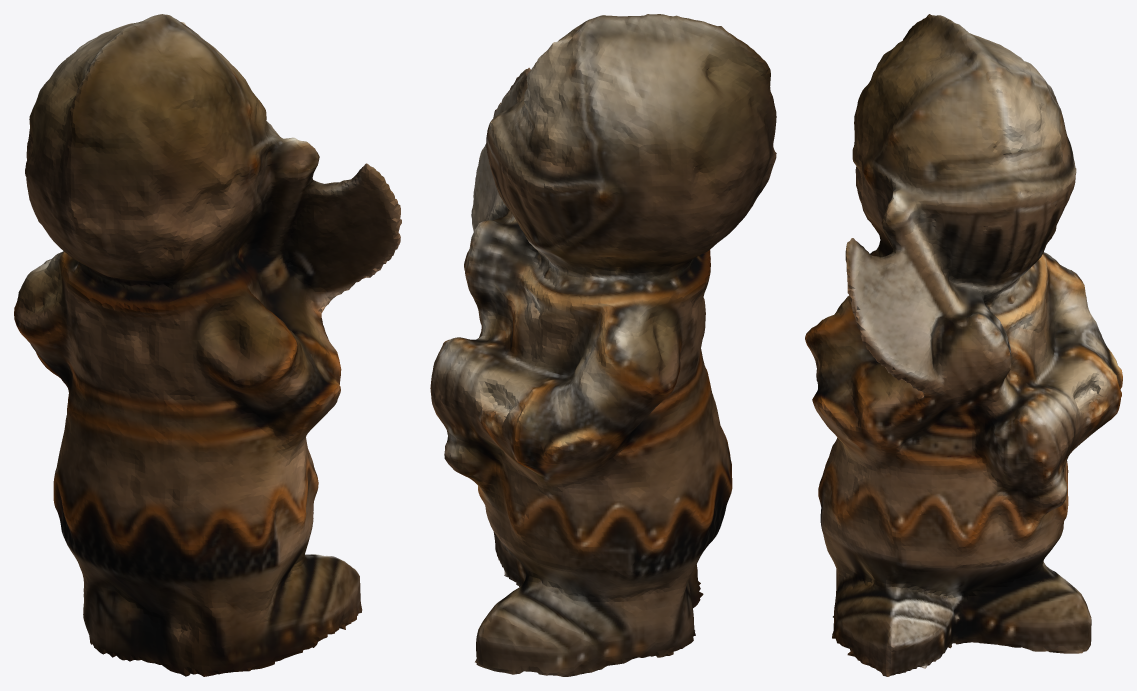
3 renders of one model, left to right at view 1: azimuth 30°, elevation 25°; view 2: azimuth 150°, elevation 25°; view 3: azimuth 270°, elevation 25°, orthographic. The views are drawn at different scales.
Visible parts, largest first — view 1: chromeKnight_Model_RCFINAL; view 2: chromeKnight_Model_RCFINAL; view 3: chromeKnight_Model_RCFINAL.
Boxes of the visible parts, x1,y1,x2,y2 form: chromeKnight_Model_RCFINAL: (14,14,401,676); chromeKnight_Model_RCFINAL: (430,14,776,676); chromeKnight_Model_RCFINAL: (805,14,1122,676).
Size of the model in its own units: 626 by 1171 by 583.
